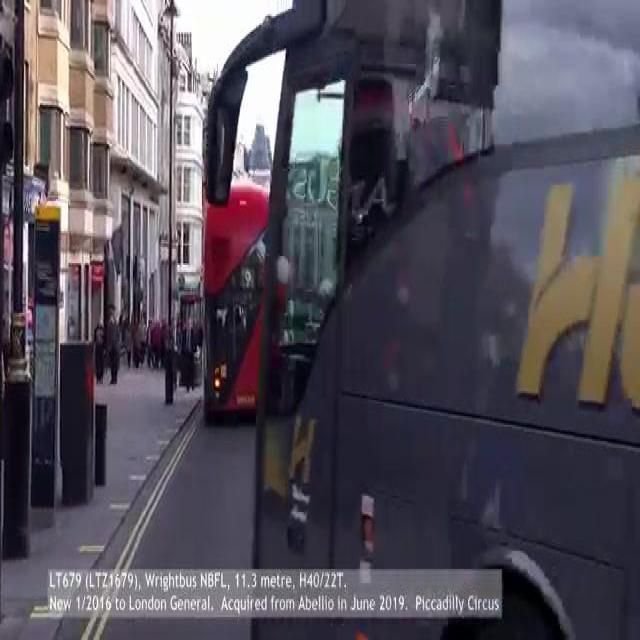motorcycle: (265, 1, 640, 637), (201, 185, 267, 428)
